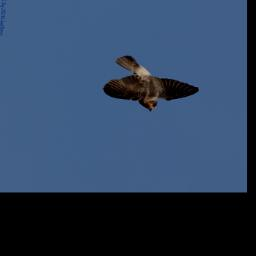Swallow: (100, 55, 203, 115)
